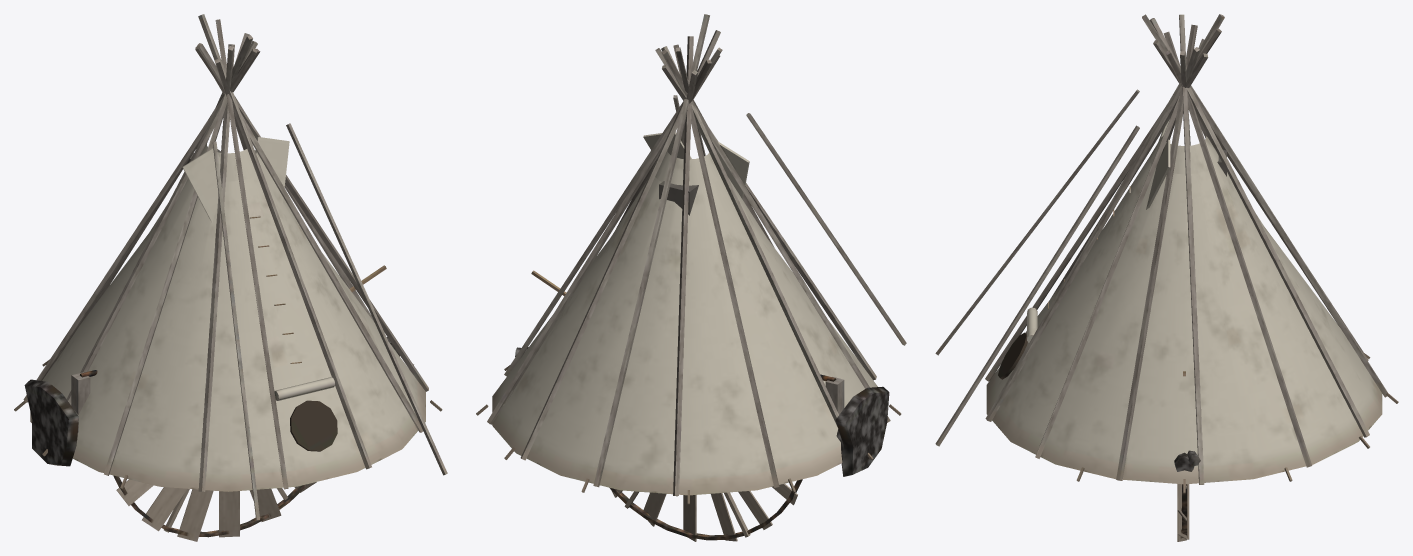
File: yard.glb
3 renders of one model, left to right at view 1: azimuth 30°, elevation 25°; view 2: azimuth 150°, elevation 25°; view 3: azimuth 270°, elevation 25°, orthographic.
Visible parts, largest first — view 1: tipi, windmill_fan, log_charred, stock_tank; view 2: tipi, windmill_fan, log_charred, forge, stock_tank; view 3: tipi, windmill_fan.
Part boxes in pixels (left/top/right/bottom): tipi: left=14, top=14, right=447, bottom=520; windmill_fan: left=113, top=475, right=316, bottom=541; log_charred: left=24, top=343, right=399, bottom=466; stock_tank: left=71, top=370, right=97, bottom=414; tipi: left=476, top=14, right=906, bottom=504; windmill_fan: left=609, top=479, right=802, bottom=541; log_charred: left=527, top=347, right=889, bottom=476; forge: left=531, top=181, right=698, bottom=296; stock_tank: left=820, top=374, right=844, bottom=414; tipi: left=935, top=14, right=1398, bottom=493; windmill_fan: left=1177, top=484, right=1189, bottom=541.
Size of the model in its own units: 5.54 by 7.34 by 6.
Materials: 1 (1 with a texture image).
